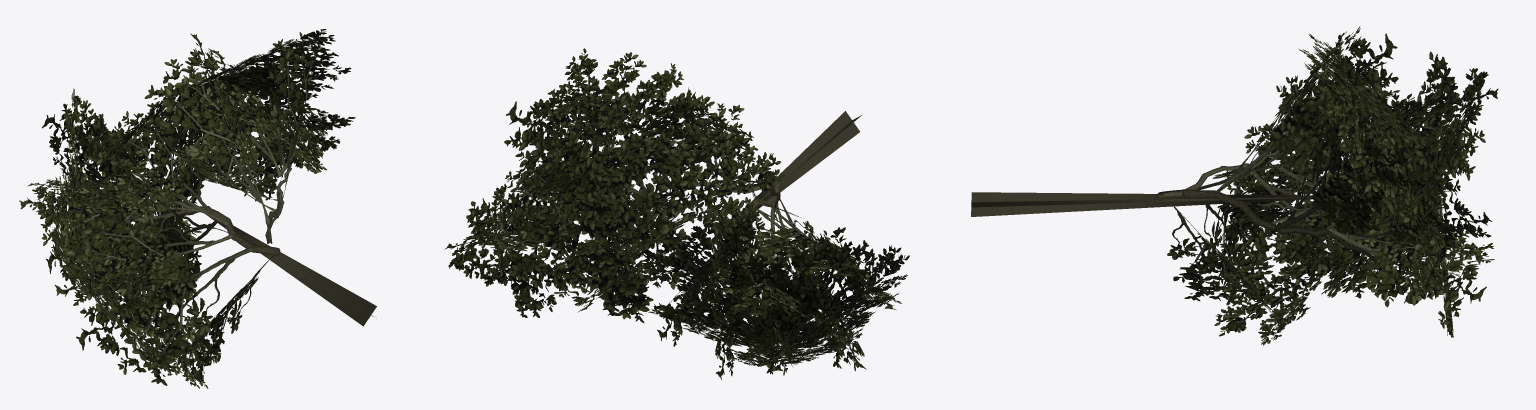
The model's file is MEP_Tree_02_c_LOD_01.fbx.
The picture shows the model from 3 angles, left to right: view 1: azimuth 30°, elevation 25°; view 2: azimuth 150°, elevation 25°; view 3: azimuth 270°, elevation 25°; orthographic projection. The views are drawn at different scales.
Visible parts, largest first — view 1: EP_Leafs_02_b_LOD_01; view 2: EP_Leafs_02_b_LOD_01; view 3: EP_Leafs_02_b_LOD_01.
Boxes of the visible parts, left/top/right/bottom form: EP_Leafs_02_b_LOD_01: left=19, top=29, right=376, bottom=388; EP_Leafs_02_b_LOD_01: left=444, top=48, right=909, bottom=379; EP_Leafs_02_b_LOD_01: left=971, top=26, right=1498, bottom=345.
Size of the model in its own units: 17.37 by 12.89 by 17.29.
